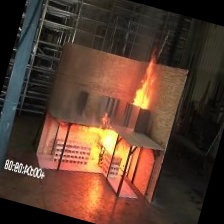fire: (53, 110, 141, 181), (114, 44, 173, 121)
